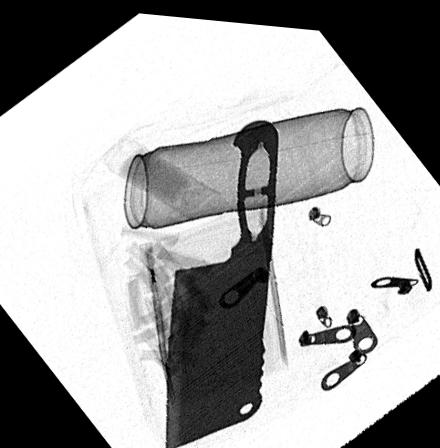Knife: (164, 113, 279, 448)
